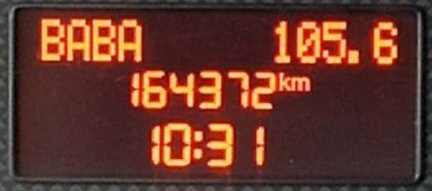-: (346, 46, 361, 66)
0: (162, 120, 189, 169), (294, 18, 320, 64)
1: (271, 17, 291, 66), (252, 122, 267, 170), (148, 121, 160, 169), (130, 68, 140, 113)
2: (251, 69, 273, 110)
3: (206, 121, 233, 168), (196, 69, 222, 109)
4: (168, 71, 193, 108)
5: (321, 17, 347, 66)
6: (371, 17, 400, 67), (141, 68, 167, 111)
7: (227, 68, 248, 111)
X: (39, 15, 64, 63), (116, 15, 141, 61), (92, 16, 116, 62), (66, 17, 89, 62), (192, 127, 204, 159), (290, 74, 310, 91), (277, 69, 290, 92)
